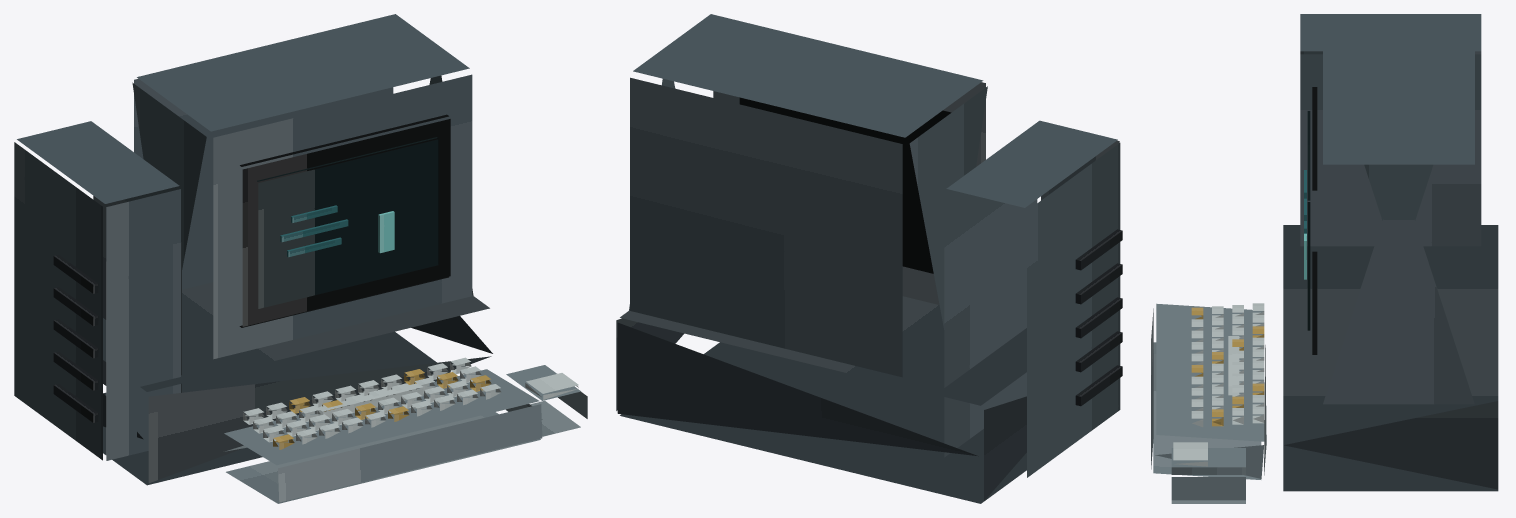
Rendered from retro_computer_compact_charcoal.glb.
The picture shows the model from 3 angles, left to right: view 1: azimuth 30°, elevation 25°; view 2: azimuth 150°, elevation 25°; view 3: azimuth 270°, elevation 25°; orthographic projection. The views are drawn at different scales.
Visible parts, largest first — view 1: MonitorShell, SideExpansion, CompactBase, MonitorGlow, KeyboardBody, MonitorFace, Mouse, SpaceBar, MouseButton, ScreenGlyph_4, SideVent_1, SideVent_0 (+3 smaller); view 2: MonitorShell, CompactBase, SideExpansion, MonitorFace, SideVent_3, SideVent_4, SideVent_0, SideVent_2, SideVent_1; view 3: MonitorShell, CompactBase, SideExpansion, KeyboardBody, Mouse, MonitorFace, MonitorGlow, MouseButton, SpaceBar.
Boxes of the visible parts, left/top/right/bottom form: MonitorShell: left=132, top=14, right=473, bottom=359; SideExpansion: left=14, top=121, right=181, bottom=460; CompactBase: left=103, top=282, right=492, bottom=485; MonitorGlow: left=257, top=137, right=438, bottom=308; KeyboardBody: left=224, top=369, right=542, bottom=503; MonitorFace: left=239, top=114, right=450, bottom=327; Mouse: left=506, top=365, right=587, bottom=436; SpaceBar: left=317, top=383, right=423, bottom=419; MouseButton: left=525, top=373, right=578, bottom=399; ScreenGlyph_4: left=378, top=211, right=394, bottom=253; SideVent_1: left=53, top=351, right=98, bottom=390; SideVent_0: left=53, top=384, right=98, bottom=422; MonitorShell: left=629, top=14, right=987, bottom=377; CompactBase: left=616, top=296, right=1026, bottom=503; SideExpansion: left=944, top=120, right=1120, bottom=477; MonitorFace: left=739, top=97, right=951, bottom=273; SideVent_3: left=1075, top=263, right=1122, bottom=304; SideVent_4: left=1075, top=229, right=1122, bottom=270; SideVent_0: left=1075, top=365, right=1122, bottom=406; SideVent_2: left=1075, top=297, right=1122, bottom=338; SideVent_1: left=1075, top=331, right=1122, bottom=372; MonitorShell: left=1323, top=35, right=1474, bottom=404; CompactBase: left=1283, top=225, right=1498, bottom=491; SideExpansion: left=1300, top=14, right=1481, bottom=246; KeyboardBody: left=1151, top=303, right=1266, bottom=479; Mouse: left=1171, top=448, right=1245, bottom=503; MonitorFace: left=1312, top=87, right=1317, bottom=354; MonitorGlow: left=1307, top=111, right=1310, bottom=330; MouseButton: left=1173, top=442, right=1207, bottom=466; SpaceBar: left=1228, top=336, right=1239, bottom=395.
Bounding box in the file's own units: 1.25 × 0.89 × 0.8679.
Materials: 1 (1 with a texture image).
